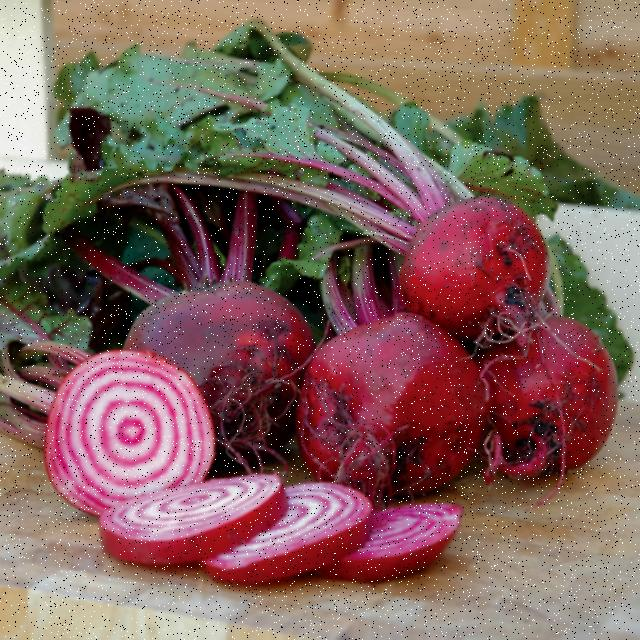Beetroot: (42, 388, 332, 581), (200, 479, 479, 612), (315, 325, 489, 472), (118, 264, 325, 386)
